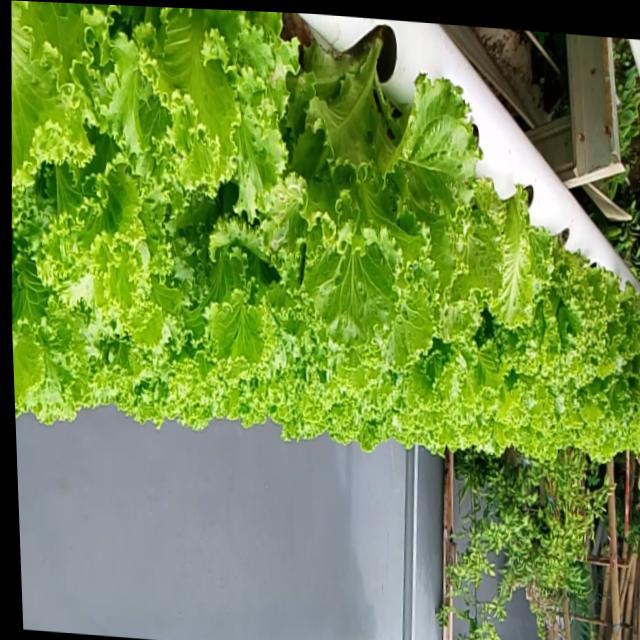Mature: (270, 22, 495, 361), (511, 222, 620, 391)
